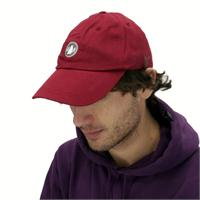hat: (32, 12, 152, 106)
